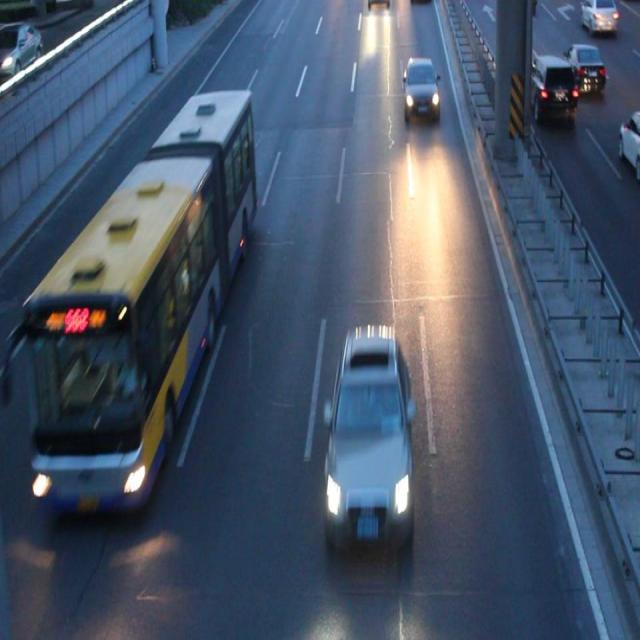car: (328, 321, 412, 539), (518, 55, 574, 116), (404, 57, 437, 120), (562, 46, 603, 88), (618, 105, 640, 178), (578, 1, 616, 31), (500, 1, 535, 17), (366, 1, 389, 10), (409, 2, 432, 7)
van: (32, 88, 255, 501)
